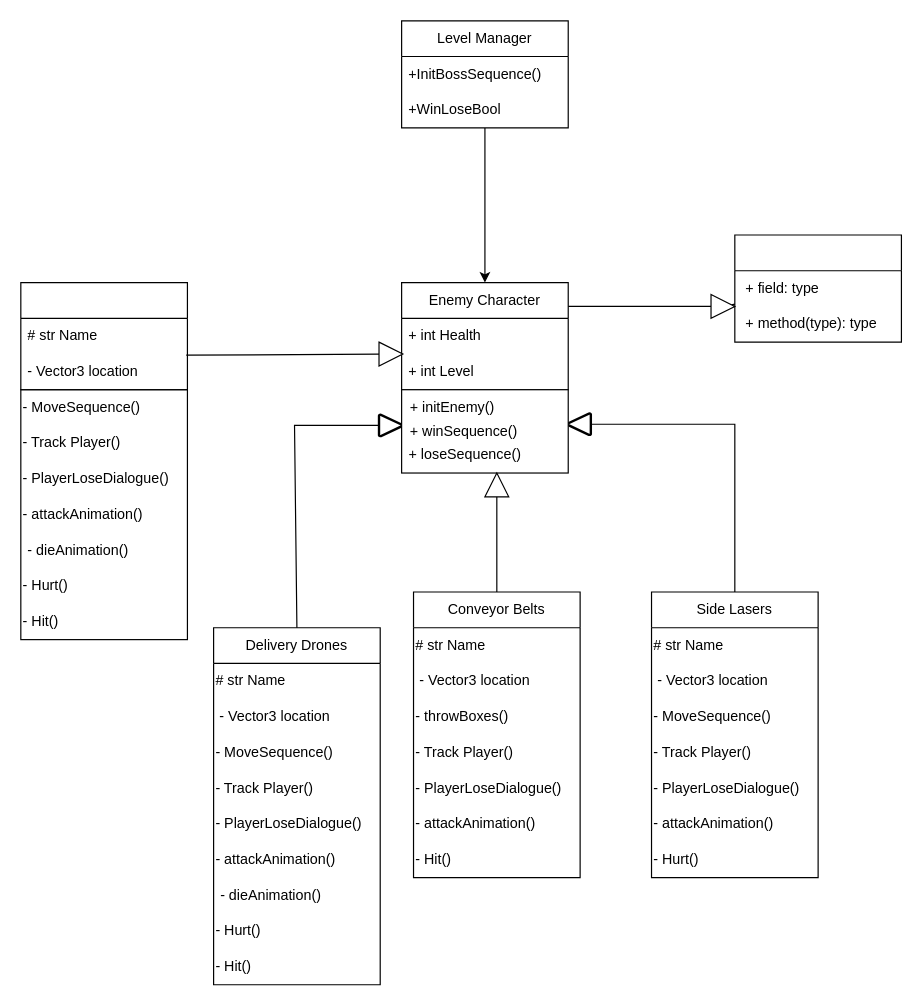
This 922x1006 diagram has some shape labels left out. The shapes that lost their labels are listed below. From the top down, each one's box as (x1, y1, x2, y2) in pixels, then its label:
(734, 234, 901, 342): MonoBehavior
(20, 281, 187, 390): Lizard Folk
